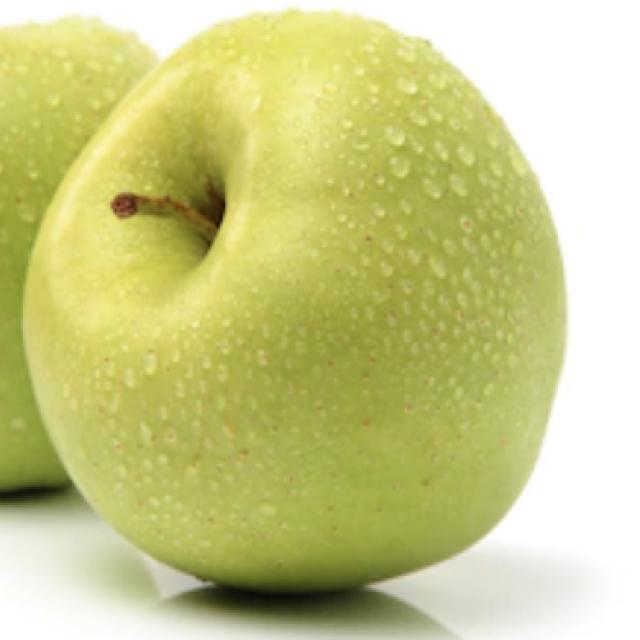Fresh Apple: (35, 21, 573, 612)
